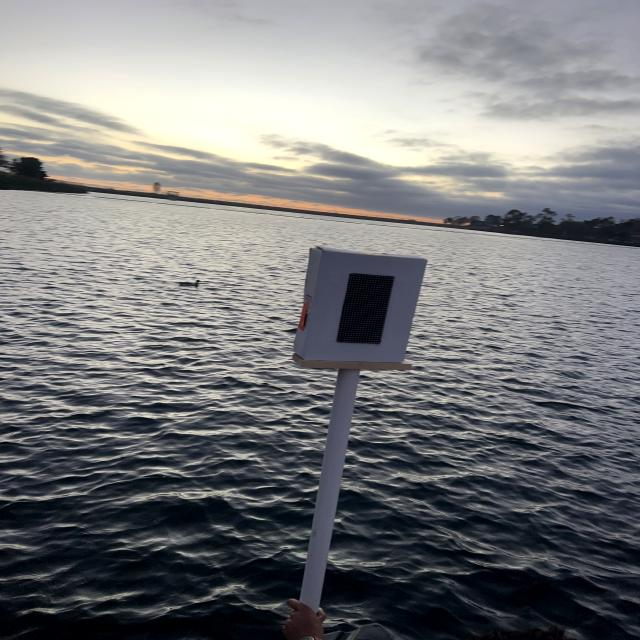led: (318, 256, 402, 361)
